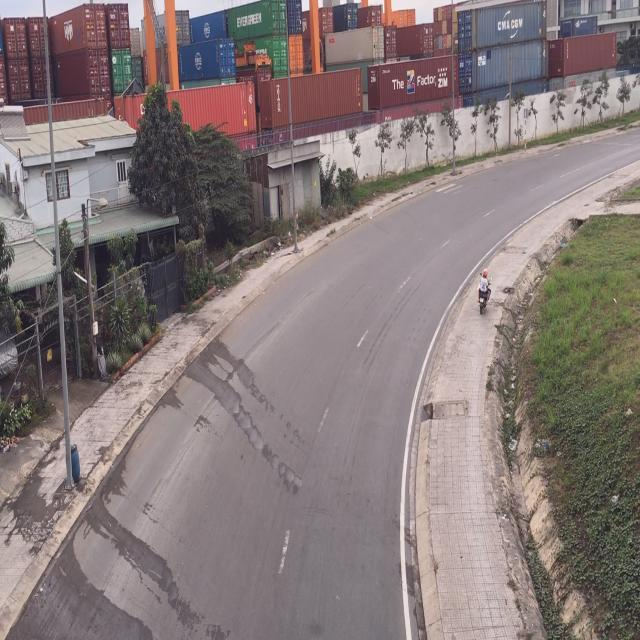motorbike: (477, 269, 491, 314)
